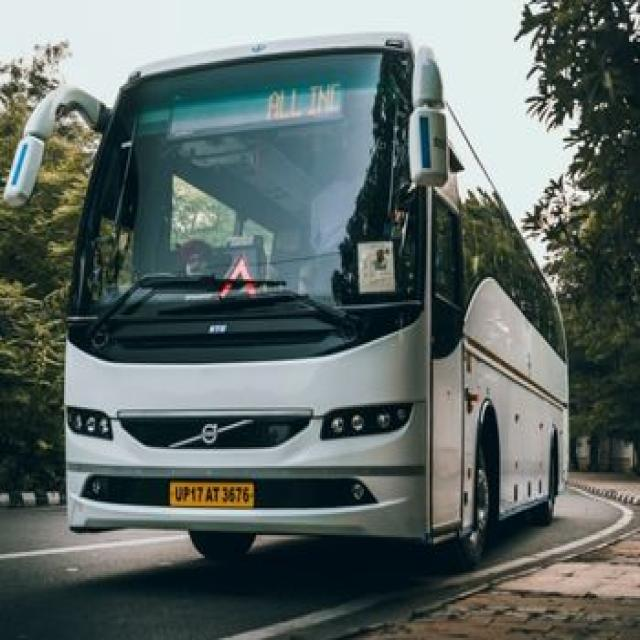bus: (6, 33, 567, 562)
